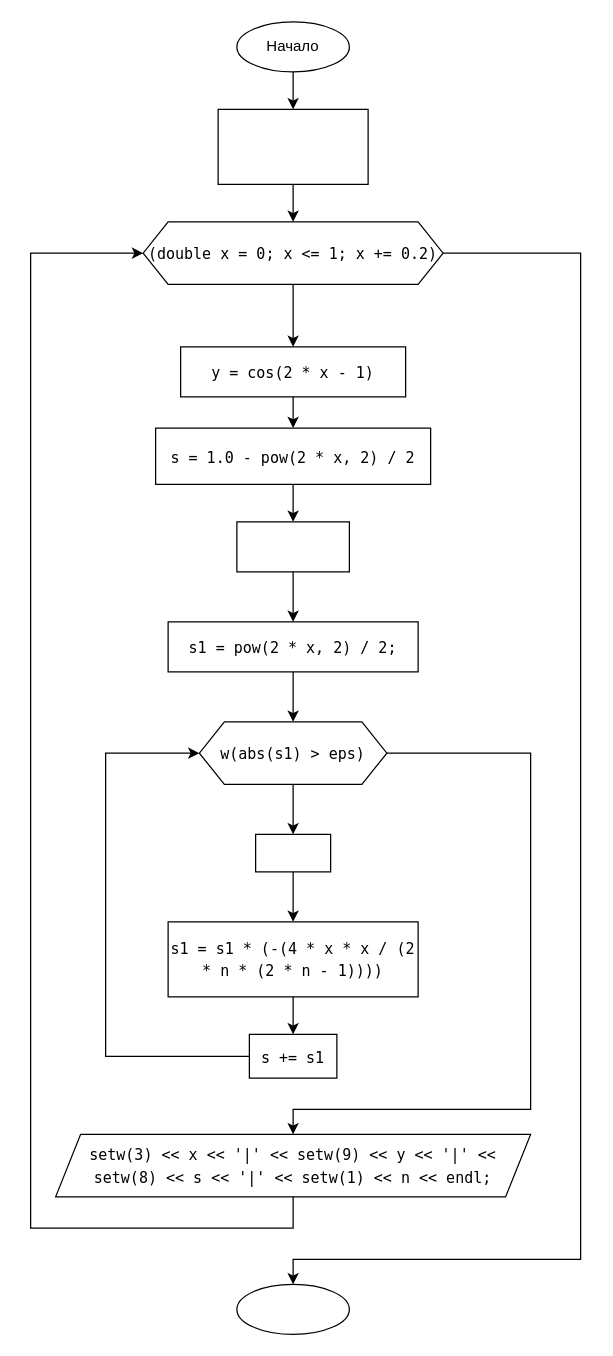
The diagram is 613 pixels wide and 1356 high, and some of its shapes have lost their labels. The shapes that lost their labels are listed below. From the top down, each one's centre as x and y in pixels, then its label:
At pixel 292 146: "y, s, s1, eps = 0.000001, n".
At pixel 292 546: "n = 1 ;".
At pixel 292 852: "n ++ ;".
At pixel 292 1308: "Конец".
